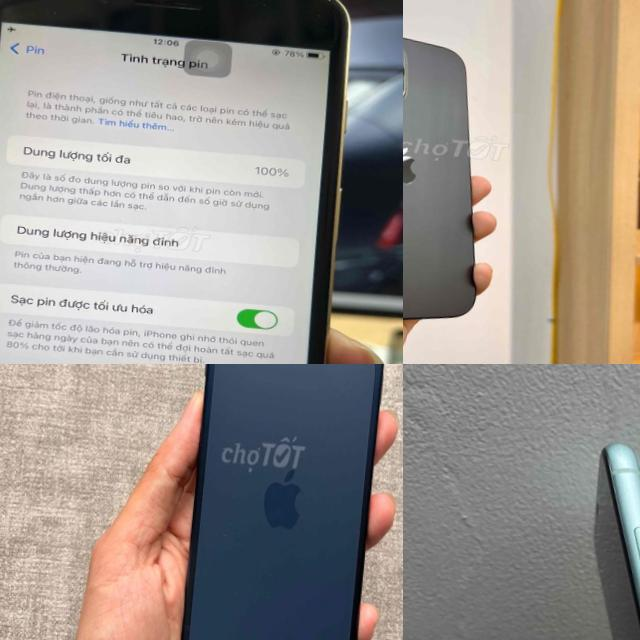gen_11: (538, 423, 640, 640)
gen_17: (173, 364, 403, 640)
gen_7_8: (0, 0, 366, 364)
